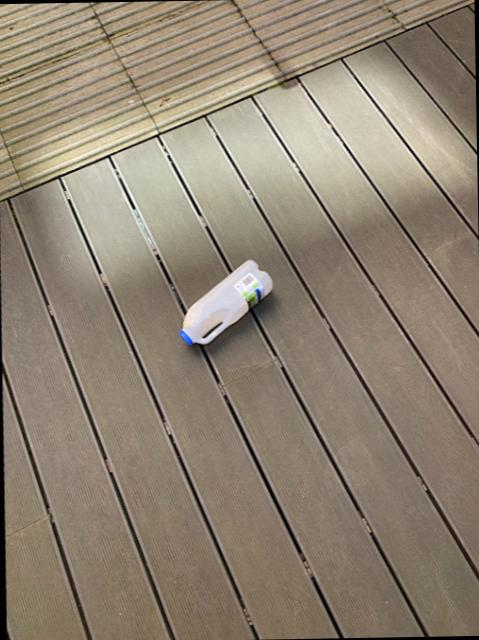plastic: (178, 259, 269, 344)
